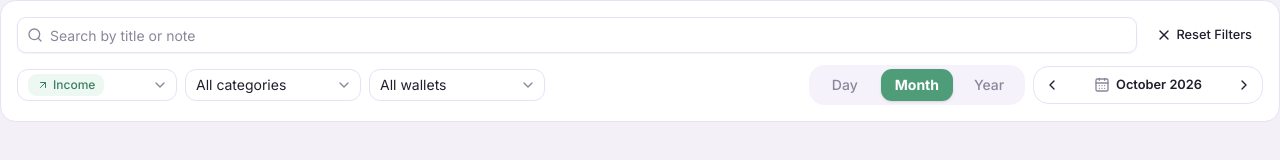
Test: TransactionFilterBar — type and category stay in sync (#163) › lists only the selected type's categories
Click the dropdown labelled "All categories ▼". click: (273, 85)
box: left=185, top=69, right=361, bottom=101
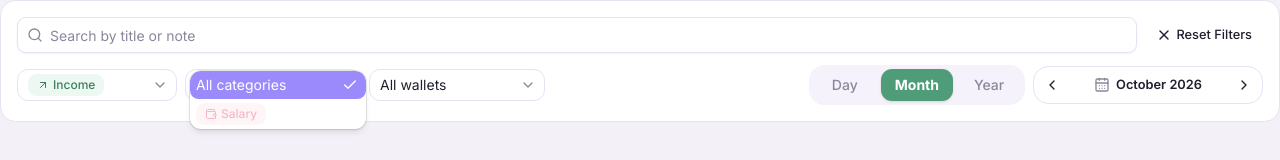
Expected: the text "Salary" is shown, left=196, top=103, right=266, bottom=125
